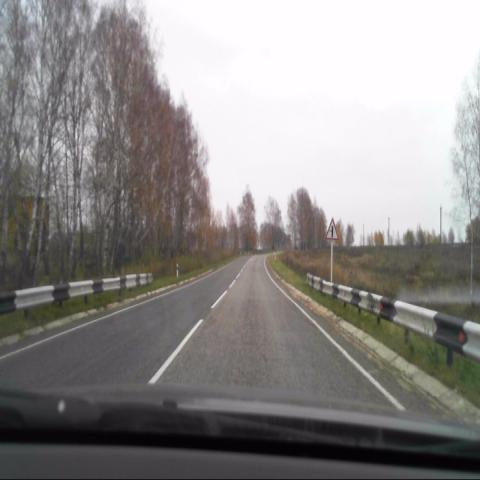2_3_3: (326, 217, 340, 240)
